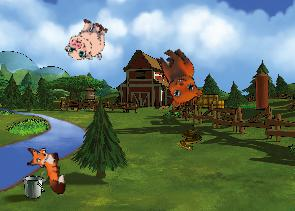bear: (143, 42, 210, 113)
fox: (23, 141, 68, 199)
pig: (62, 14, 112, 67)
